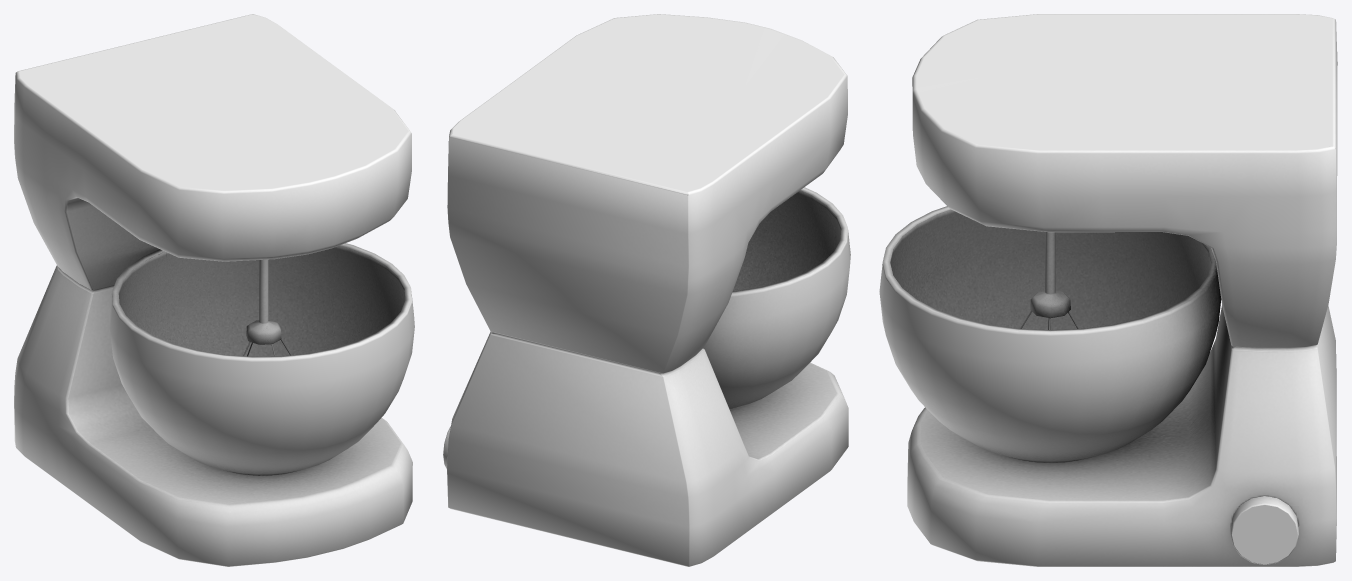
Rendered from Mixer.fbx.
3 views of the same model, side by side, from view 1: azimuth 30°, elevation 25°; view 2: azimuth 150°, elevation 25°; view 3: azimuth 270°, elevation 25° (orthographic). The views are drawn at different scales.
Parts seen in each view (by area): view 1: Base; view 2: Base; view 3: Base.
Part boxes in pixels (bbox=[...]): Base: bbox=[14, 14, 414, 566]; Base: bbox=[443, 14, 850, 566]; Base: bbox=[879, 14, 1337, 566].
Size of the model in its own units: 28.02 by 36.27 by 36.22.
